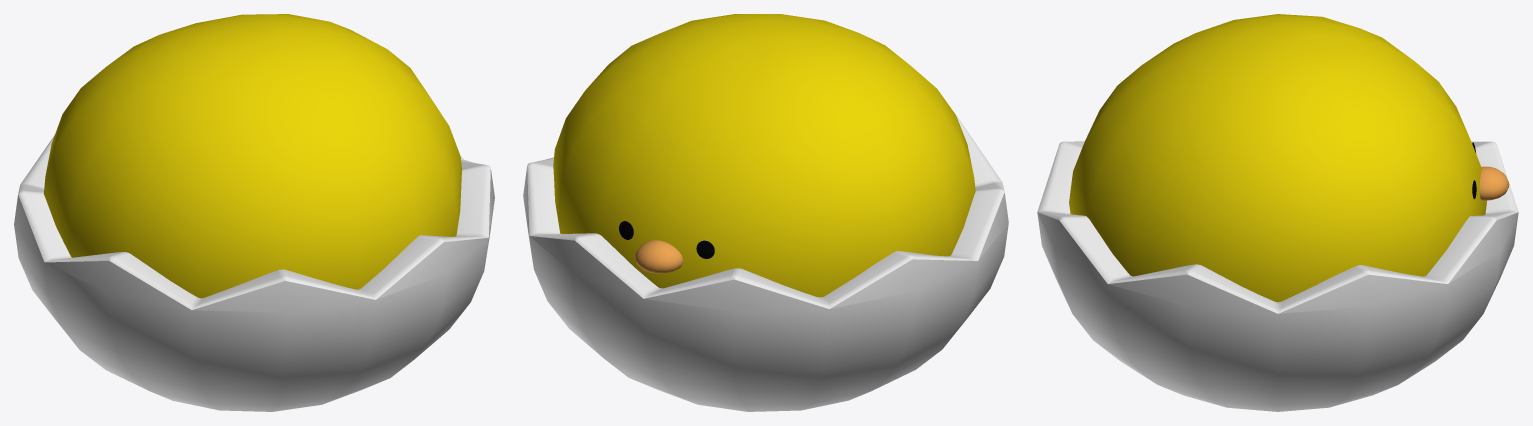
The model's file is hiyoko5-1737515973677.glb.
The picture shows the model from 3 angles, left to right: view 1: azimuth 30°, elevation 25°; view 2: azimuth 150°, elevation 25°; view 3: azimuth 270°, elevation 25°; orthographic projection.
Parts seen in each view (by area): view 1: Sphere.001, Sphere; view 2: Sphere.001, Sphere, Sphere.002, Circle; view 3: Sphere.001, Sphere, Sphere.002.
Boxes of the visible parts, left/top/right/bottom form: Sphere.001: left=44, top=14, right=462, bottom=298; Sphere: left=14, top=135, right=494, bottom=411; Sphere.001: left=553, top=14, right=975, bottom=297; Sphere: left=523, top=116, right=1008, bottom=411; Sphere.002: left=635, top=240, right=683, bottom=273; Circle: left=619, top=221, right=714, bottom=258; Sphere.001: left=1069, top=14, right=1486, bottom=302; Sphere: left=1037, top=141, right=1518, bottom=411; Sphere.002: left=1479, top=166, right=1509, bottom=200.
Bounding box in the file's own units: 2 × 1.57 × 2.
